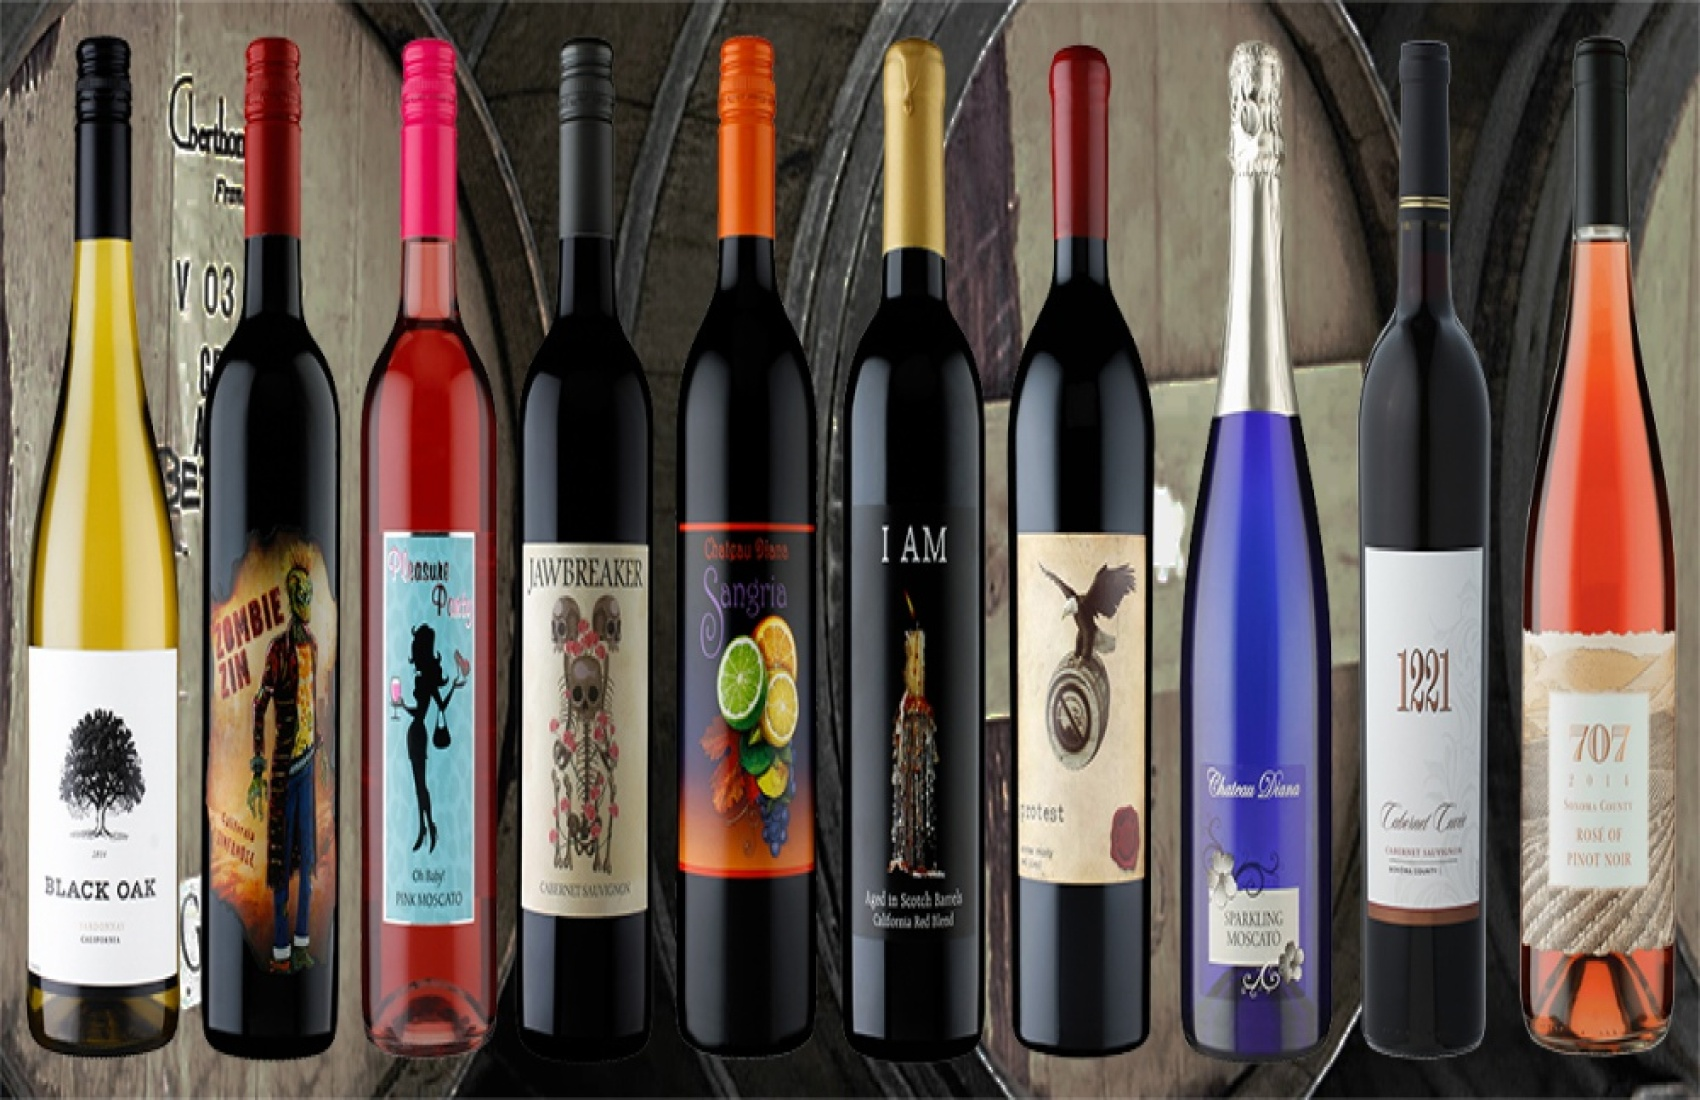wine: (33, 53, 176, 1042), (1523, 62, 1665, 1050), (1192, 56, 1318, 1058), (512, 32, 638, 1034), (370, 42, 497, 1044), (852, 31, 978, 1033), (1014, 41, 1139, 1043), (1356, 64, 1481, 1067), (677, 45, 802, 1045), (219, 45, 344, 1045)
